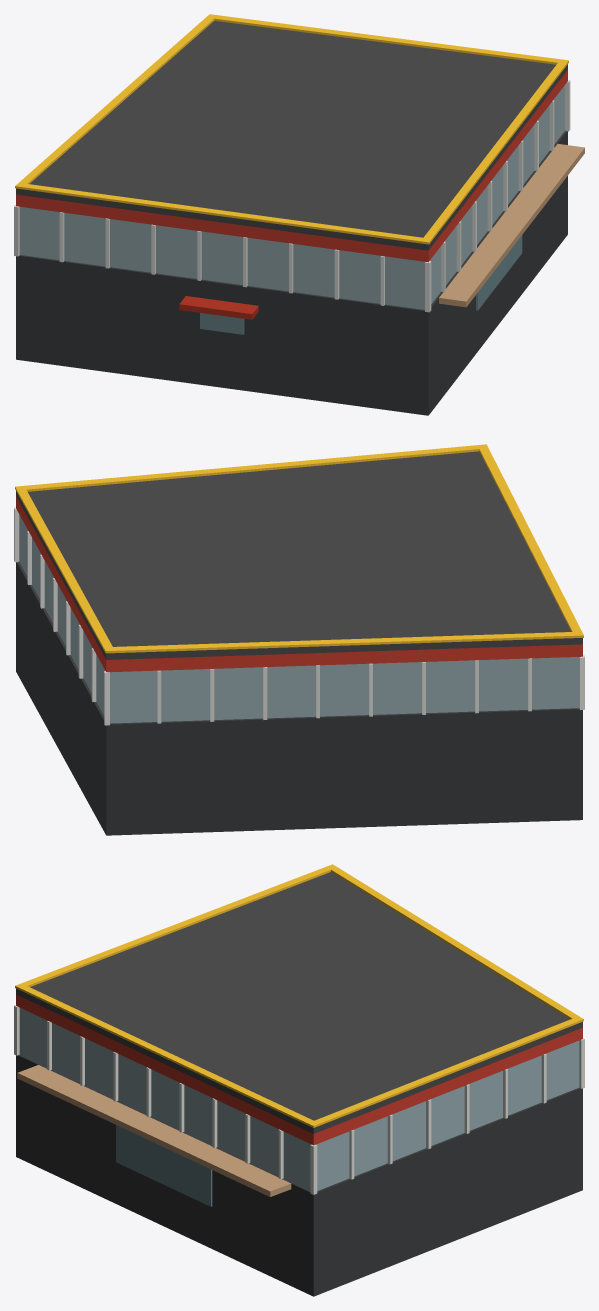
File: mcdonalds-wenxin6.glb
3 views of the same model, one above another, from view 1: azimuth 30°, elevation 25°; view 2: azimuth 150°, elevation 25°; view 3: azimuth 270°, elevation 25° (orthographic). The views are drawn at different scales.
Visible parts, largest first — view 1: mcdonalds-wenxin6; view 2: mcdonalds-wenxin6; view 3: mcdonalds-wenxin6.
Boxes of the visible parts, box(x1,y1,x2,y2) form: mcdonalds-wenxin6: box(14, 14, 584, 415); mcdonalds-wenxin6: box(14, 444, 584, 835); mcdonalds-wenxin6: box(14, 864, 584, 1296).
Size of the model in its own units: 39.47 by 12 by 36.27.
